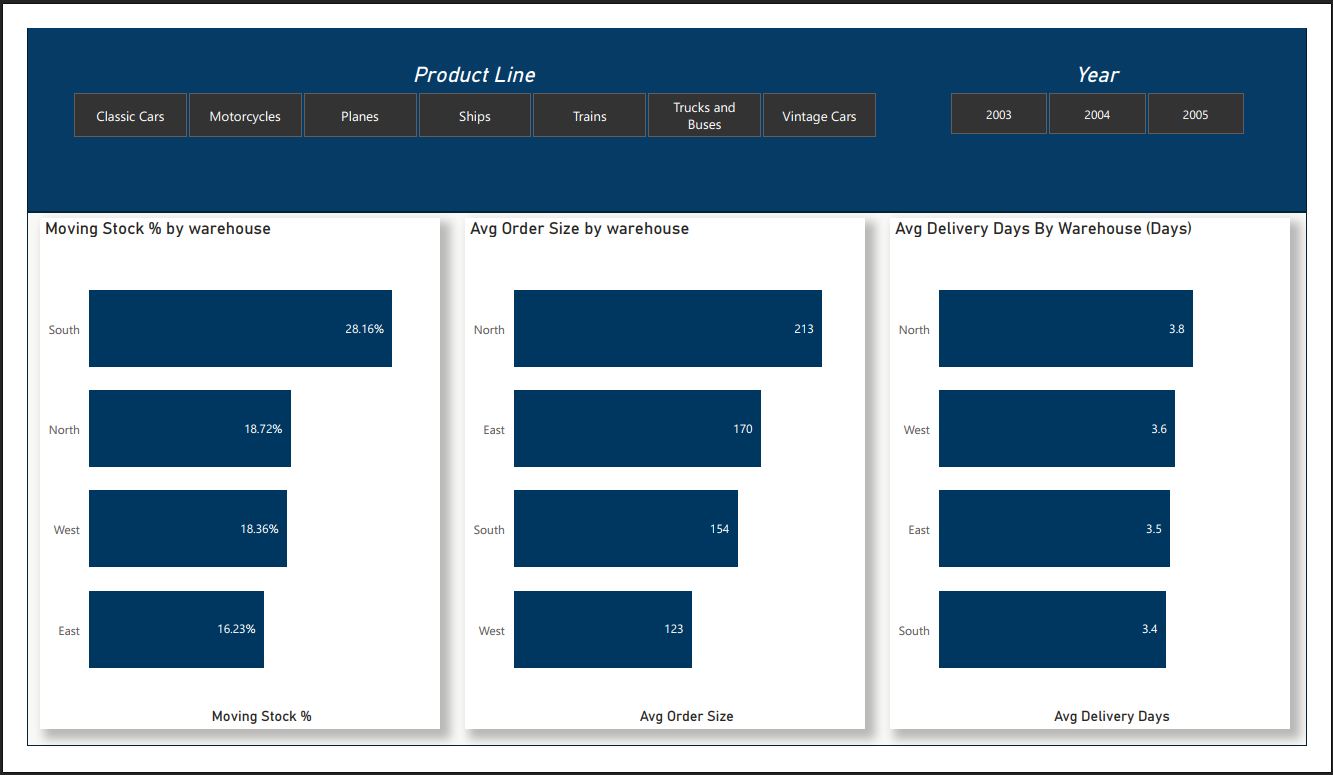

This screenshot's page, from the dashboard's own definition file:
{"tool":"powerbi","page":{"name":"Warehouse Deep Dive","canvas":[1280,720],"ordinal":1},"visuals":[{"type":"slicer","title":"Year","fields":{"Values":["order.Year"]},"box":[897.8,34.4,343.3,78.9],"z":0},{"type":"slicer","title":"Product Line","fields":{"Values":["productlines.productLine"]},"box":[21.1,34.4,852.2,78.9],"z":1000},{"type":"barChart","title":"Avg Order Size by warehouse ","fields":{"Category":["warehouses.warehouseName"],"Y":["DAX-Measures.AvgOrderSize"]},"box":[437.7,190,400,510.9],"z":2000},{"type":"barChart","title":"Moving Stock % by warehouse ","fields":{"Category":["warehouses.warehouseName"],"Y":["DAX-Measures.MovingStockPct"]},"box":[12.7,190,400,510.9],"z":3000},{"type":"barChart","title":"Avg Delivery Days By Warehouse (Days)","fields":{"Category":["warehouses.warehouseName"],"Y":["DAX-Measures.AvgDeliveryDaysByWarehouse"]},"box":[862.7,190,400,510.9],"z":4000}]}

Visuals, with their boxes on the page's 1280x720 design canvas (x1, y1, x2, y2). These are canvas units, not pixel positions in the 1333x775 screenshot, which may show the page scaled, cropped or inside an application window:
"Year" slicer: region(898, 34, 1241, 113)
"Product Line" slicer: region(21, 34, 873, 113)
"Avg Order Size by warehouse " barChart: region(438, 190, 838, 701)
"Moving Stock % by warehouse " barChart: region(13, 190, 413, 701)
"Avg Delivery Days By Warehouse (Days)" barChart: region(863, 190, 1263, 701)
